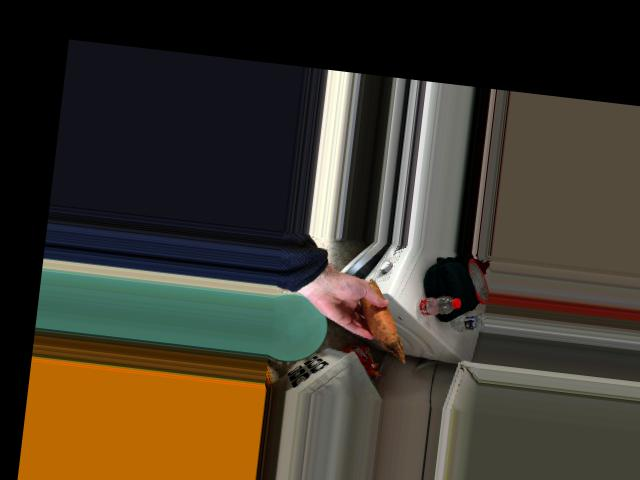sweet_potato: (357, 291, 400, 342)
